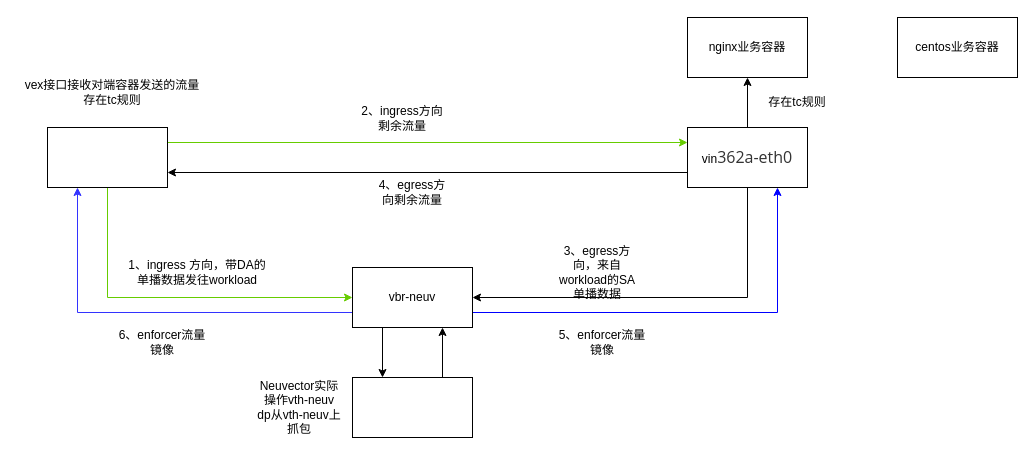
The diagram is 1035 pixels wide and 455 high, and some of its shapes have lost their labels. Each missing label, with the centre of its shape:
"vex 362a-eth0" belongs at point 107,157.
"vth-neuv" belongs at point 412,407.
